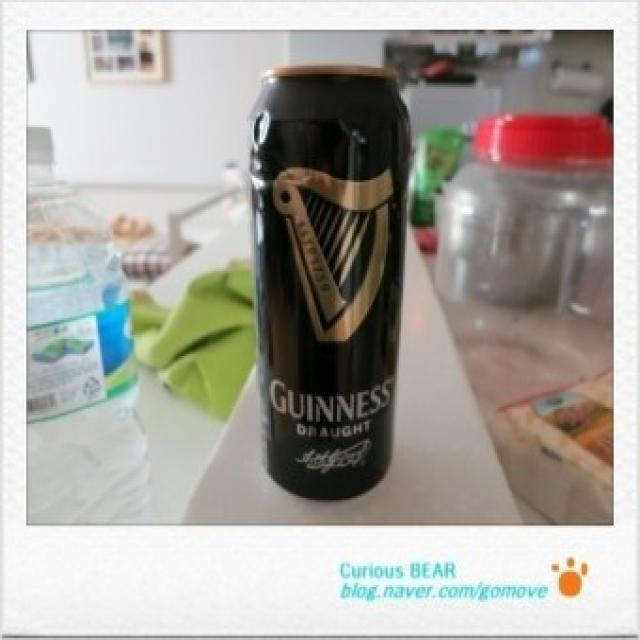can: (252, 66, 418, 510)
